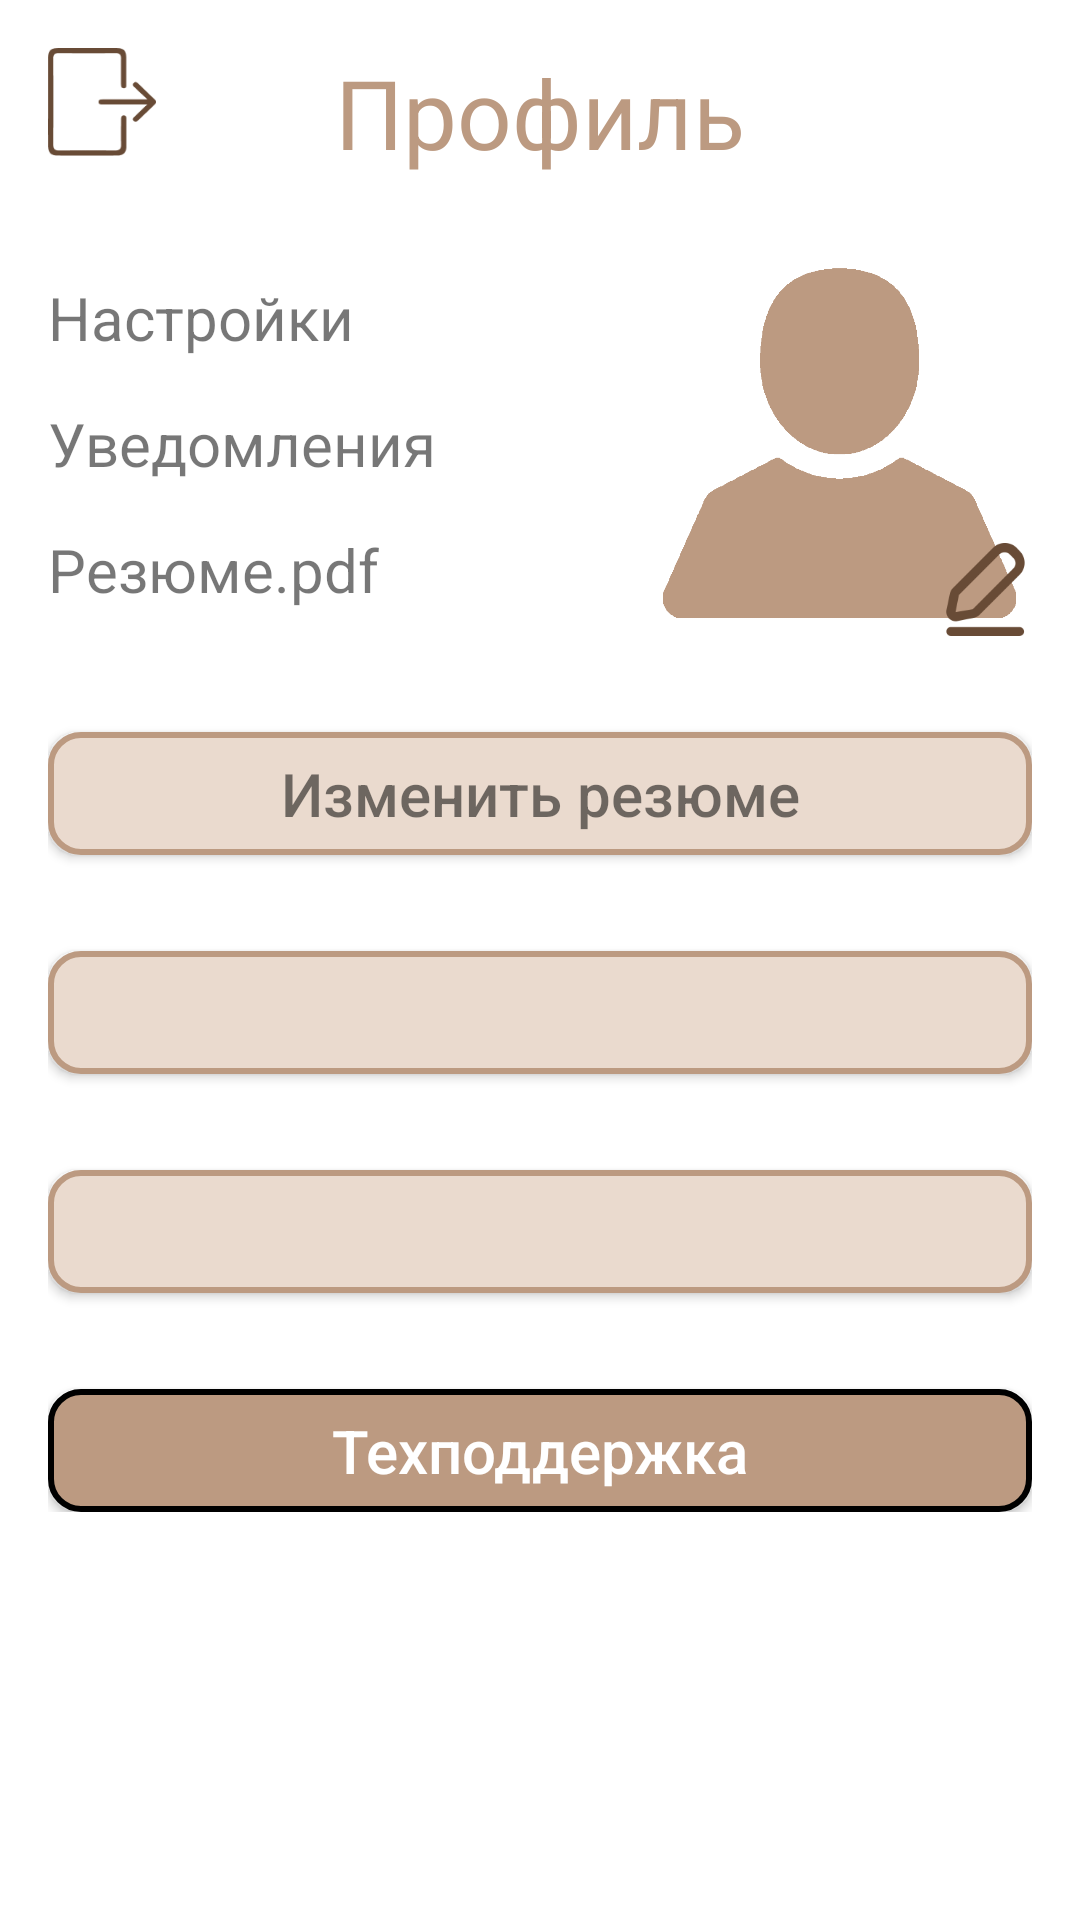

Screen size 1080px×1920px. Icon name, then its box in pixels as (x1, y1, x2, y2):
edit: (939, 543, 1025, 636)
log out: (48, 48, 156, 156)
